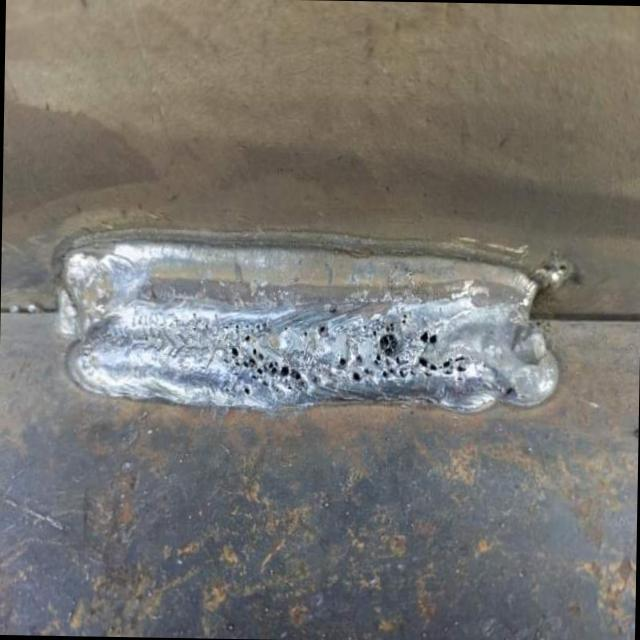defect: (334, 312, 474, 388), (223, 327, 311, 399), (312, 318, 331, 343)
